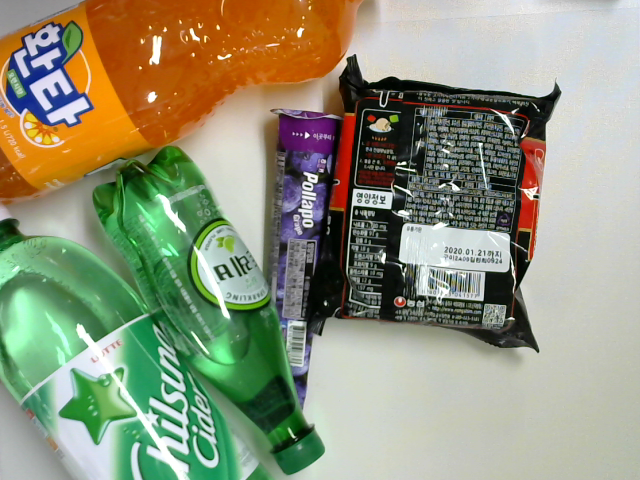Chilseong_Cider_1.5L: (1, 204, 271, 480)
Hwanta_Orange_1.5L: (1, 1, 382, 211)
Polapo_Grape: (261, 101, 344, 452)
Sinramen_Black: (330, 50, 561, 365)
Treviraim_500ml: (91, 142, 331, 472)
